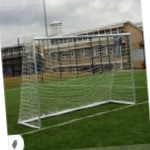goals: (17, 32, 139, 129)
